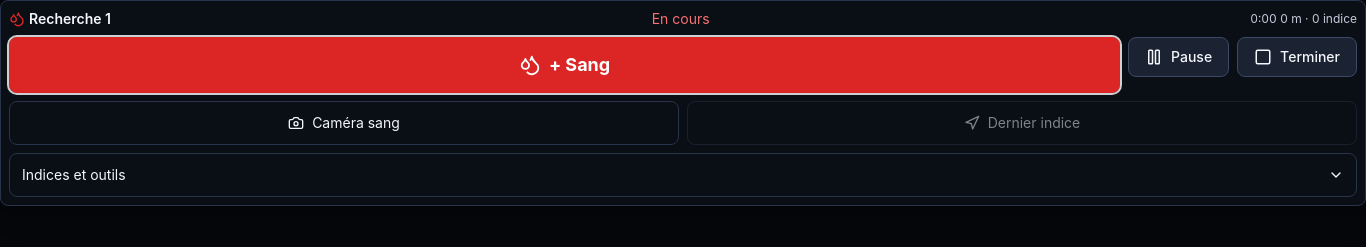
Test case: BloodPanel › + Sang creates one real waypoint per press and confirms only after the write
The width and height of the screenshot is (1366, 247).
Click the button "+ Sang": click(564, 65) [9,37,1120,93]
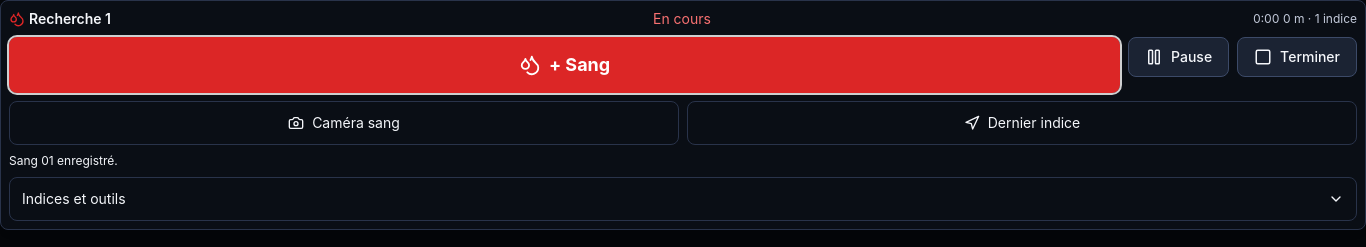
Expected: the text "Sang 01 enregistré." is shown, [9,153,118,168]
Click the button "+ Sang": click(564, 65) [9,37,1120,93]
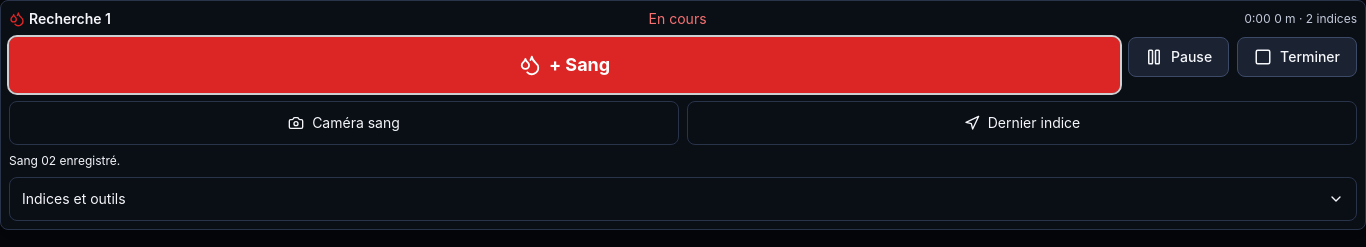
Expected: the text "Sang 02 enregistré." is shown, [9,153,120,168]
